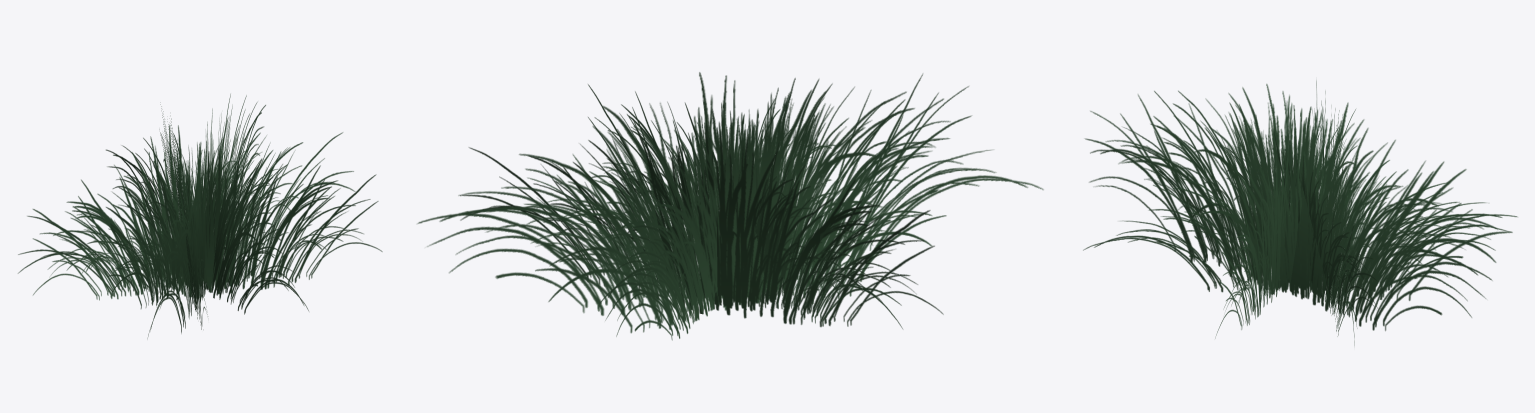
File: grass_large2.glb
3 views of the same model, side by side, from view 1: azimuth 30°, elevation 25°; view 2: azimuth 150°, elevation 25°; view 3: azimuth 270°, elevation 25° (orthographic). The views are drawn at different scales.
Visible parts, largest first — view 1: Grass large 2; view 2: Grass large 2; view 3: Grass large 2.
Boxes of the visible parts, x1=… form: Grass large 2: x1=18, y1=94, x2=382, y2=338; Grass large 2: x1=417, y1=72, x2=1043, y2=340; Grass large 2: x1=1083, y1=80, x2=1517, y2=345.
Size of the model in its own units: 0.7137 by 0.3544 by 0.6941.
Materials: 1 (1 with a texture image).
